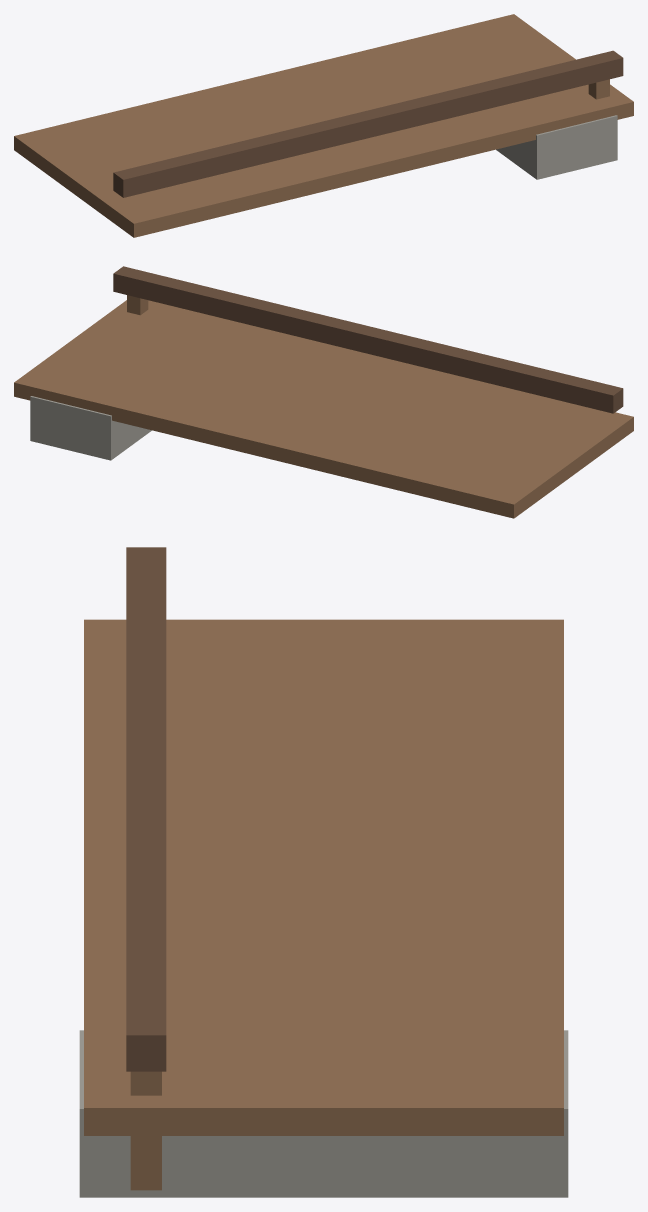
The model's file is bridge.glb.
3 renders of one model, top to bottom at view 1: azimuth 30°, elevation 25°; view 2: azimuth 150°, elevation 25°; view 3: azimuth 270°, elevation 25°, orthographic. The views are drawn at different scales.
Visible parts, largest first — view 1: deck, rail_top, stone_pier, post; view 2: deck, rail_top, stone_pier; view 3: deck, stone_pier, rail_top, post.
Boxes of the visible parts, bbox=[...] form: deck: bbox=[14, 14, 633, 237]; rail_top: bbox=[113, 50, 623, 197]; stone_pier: bbox=[496, 115, 617, 179]; post: bbox=[588, 79, 609, 99]; deck: bbox=[14, 300, 633, 518]; rail_top: bbox=[113, 266, 623, 413]; stone_pier: bbox=[30, 396, 151, 460]; deck: bbox=[84, 619, 563, 1135]; stone_pier: bbox=[79, 1030, 568, 1197]; rail_top: bbox=[126, 547, 166, 1071]; post: bbox=[130, 1071, 161, 1190].
Bounding box in the file's own units: 13 × 2.22 × 5.5.
